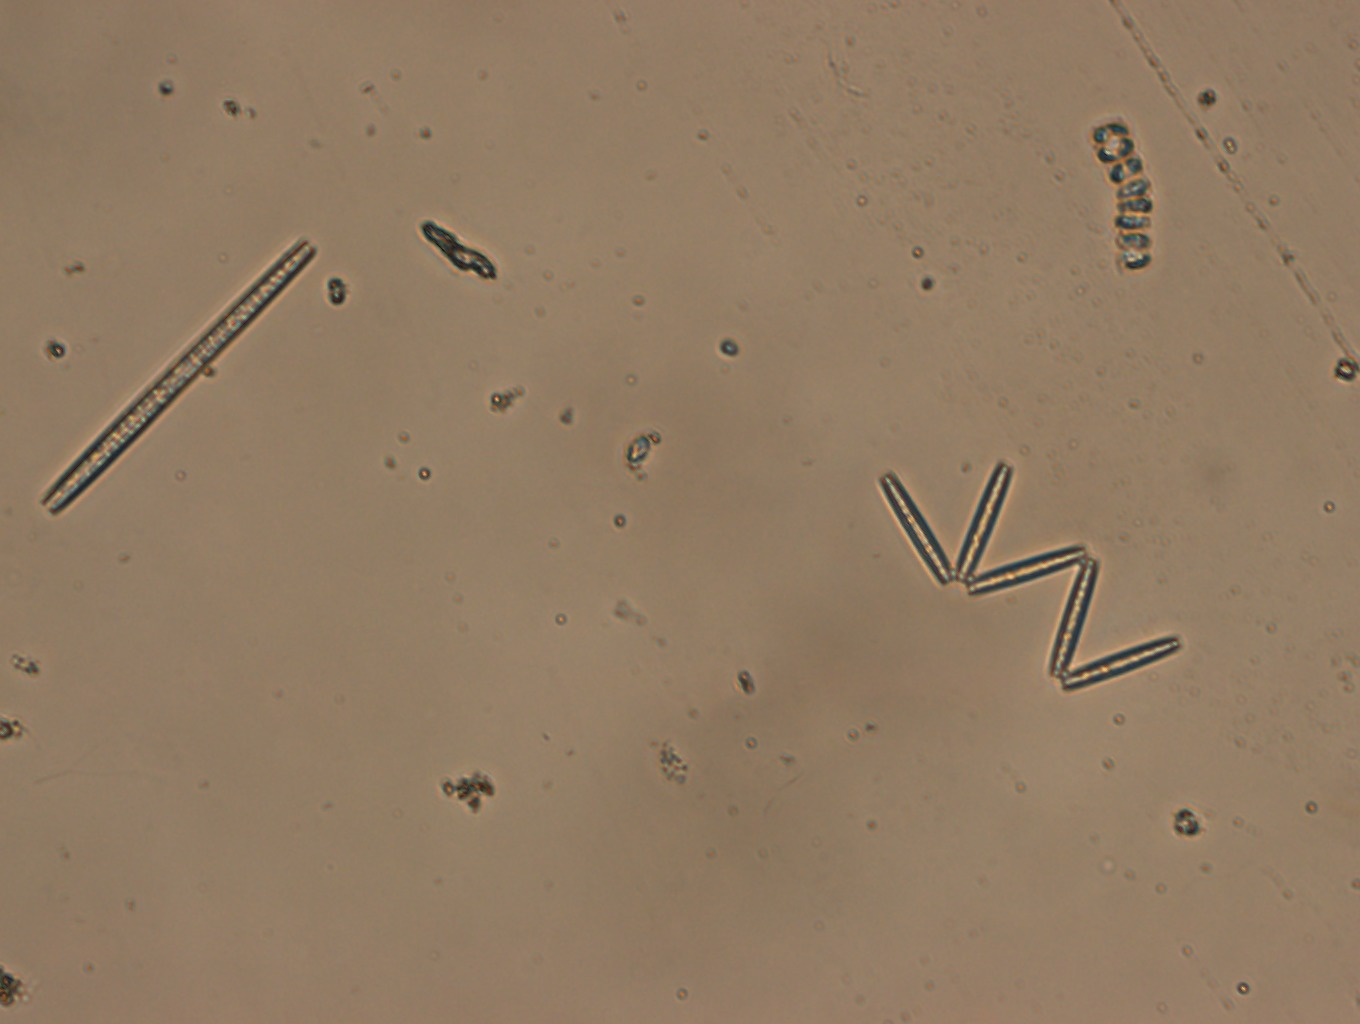skeletonema: (1090, 117, 1154, 271)
thalassionema nitzschioides: (37, 234, 319, 514), (879, 458, 1182, 692)
